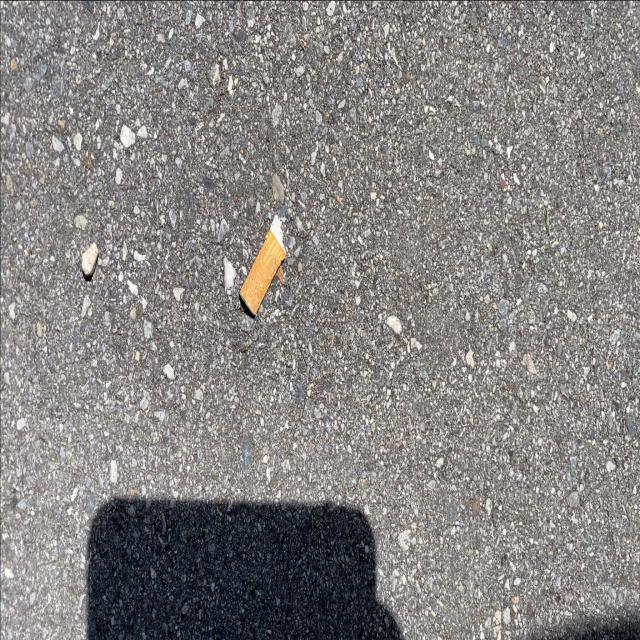other waste: (238, 213, 286, 317)
